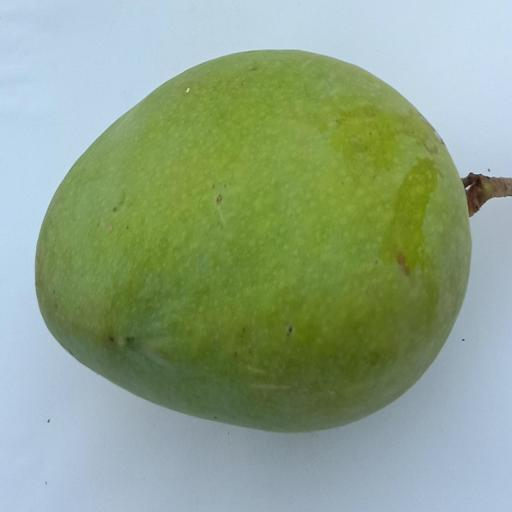mango-unripe: (7, 20, 512, 482)
